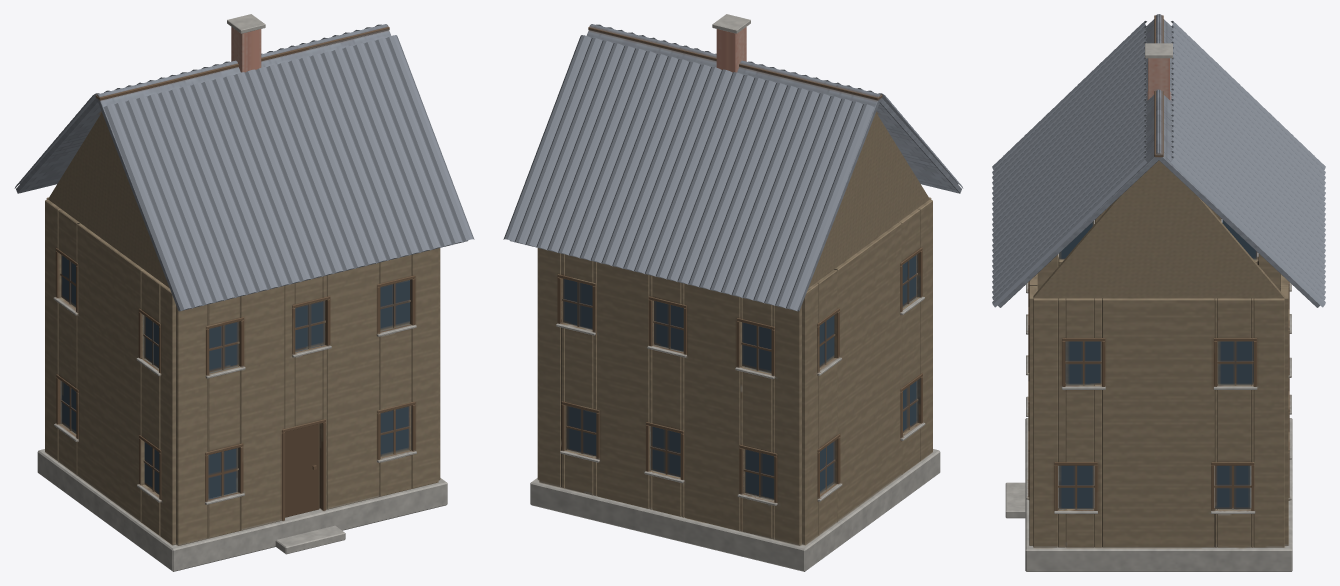
File: house_alpine.glb
3 views of the same model, side by side, from view 1: azimuth 30°, elevation 25°; view 2: azimuth 150°, elevation 25°; view 3: azimuth 270°, elevation 25° (orthographic).
Parts seen in each view (by area): view 1: house_alpine; view 2: house_alpine; view 3: house_alpine.
Part boxes in pixels (box(x1,y1,x2,y2)): house_alpine: box(16, 14, 467, 571); house_alpine: box(510, 14, 961, 571); house_alpine: box(998, 14, 1319, 571).
Size of the model in its own units: 7.31 by 11.1 by 7.31.
Materials: 2 (1 with a texture image).
